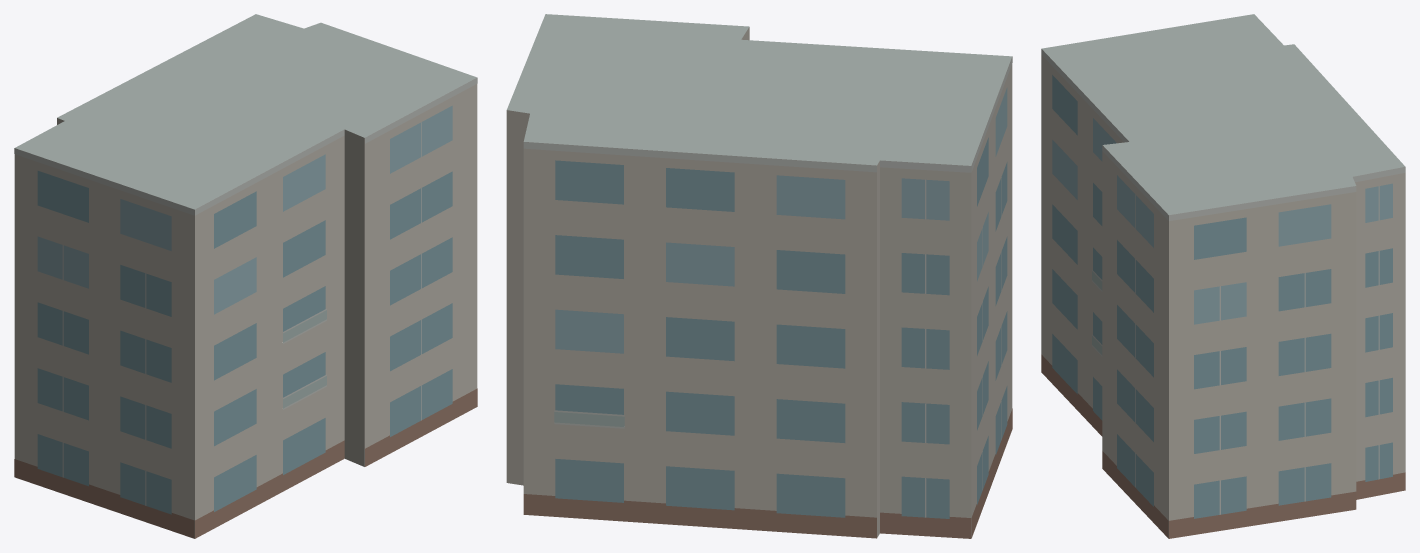
Rendered from survey-upis-32853641.glb.
The picture shows the model from 3 angles, left to right: view 1: azimuth 30°, elevation 25°; view 2: azimuth 150°, elevation 25°; view 3: azimuth 270°, elevation 25°; orthographic projection. The views are drawn at different scales.
Visible parts, largest first — view 1: survey-upis-32853641.tmp; view 2: survey-upis-32853641.tmp; view 3: survey-upis-32853641.tmp.
Part boxes in pixels (x1=…): survey-upis-32853641.tmp: x1=14, y1=14, x2=477, y2=538; survey-upis-32853641.tmp: x1=506, y1=14, x2=1012, y2=538; survey-upis-32853641.tmp: x1=1041, y1=14, x2=1405, y2=538.
Size of the model in its own units: 17.61 by 13.2 by 13.47.
